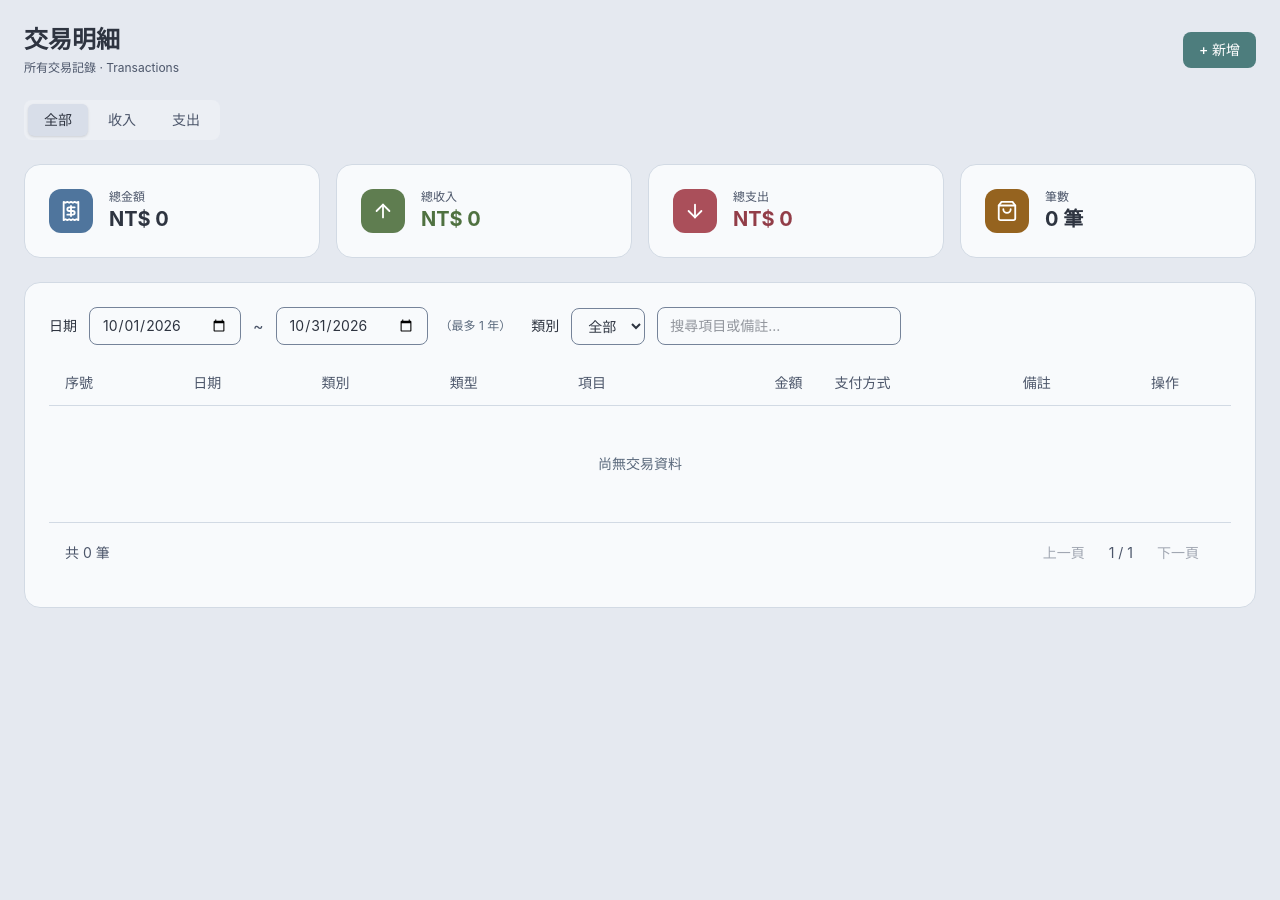
Scenario: transaction form interaction contract › clears an expense category when expense becomes income
This screenshot has width=1280, height=900.
Click the button "+ 新增": {"x": 1219, "y": 50} [1183,32,1256,68]
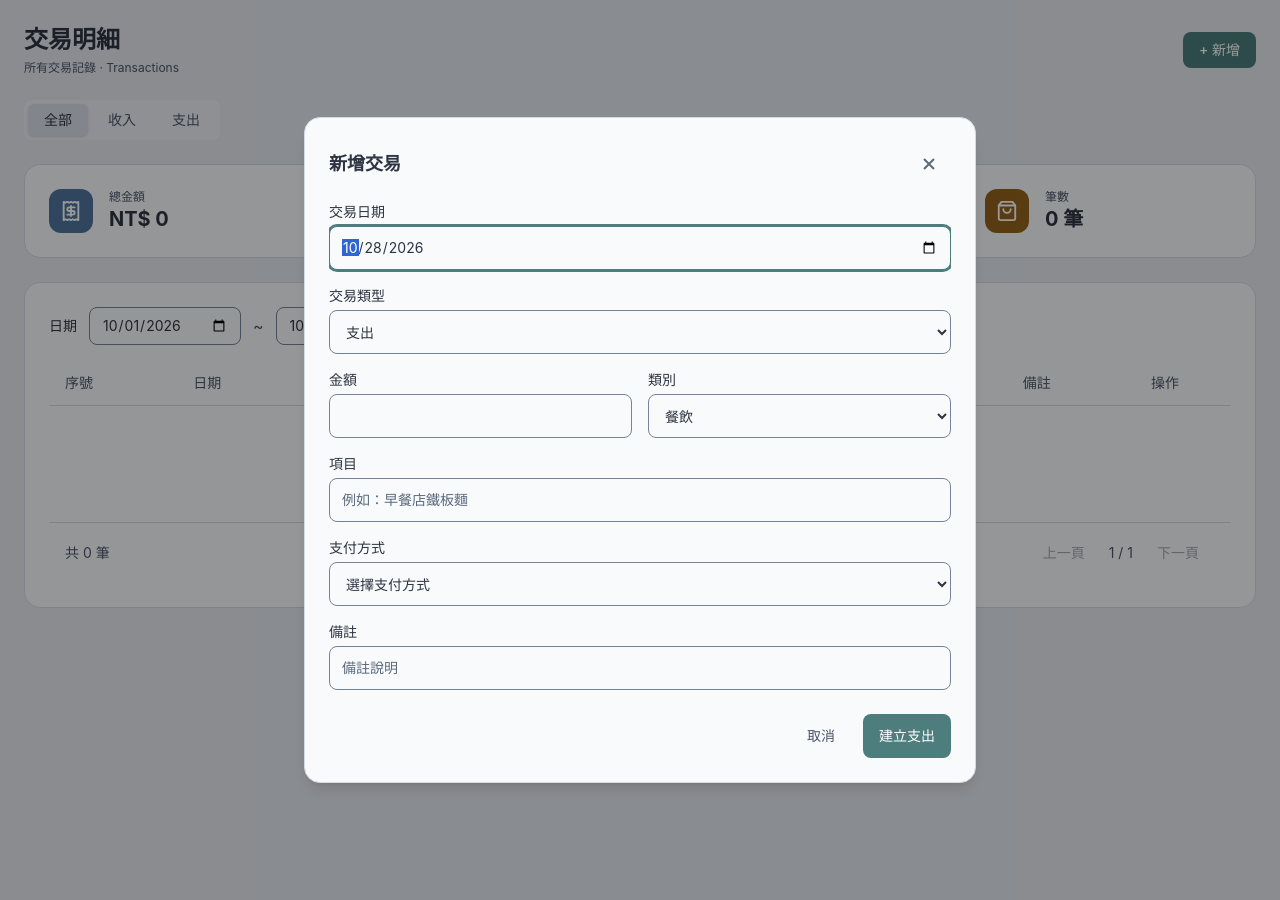
Now the dialog is shown, box [304,117,976,783]
Now the dropdown with id "transaction-type" is shown
Select "收入" in the dropdown with id "transaction-type": {"x": 640, "y": 332} [329,310,951,354]
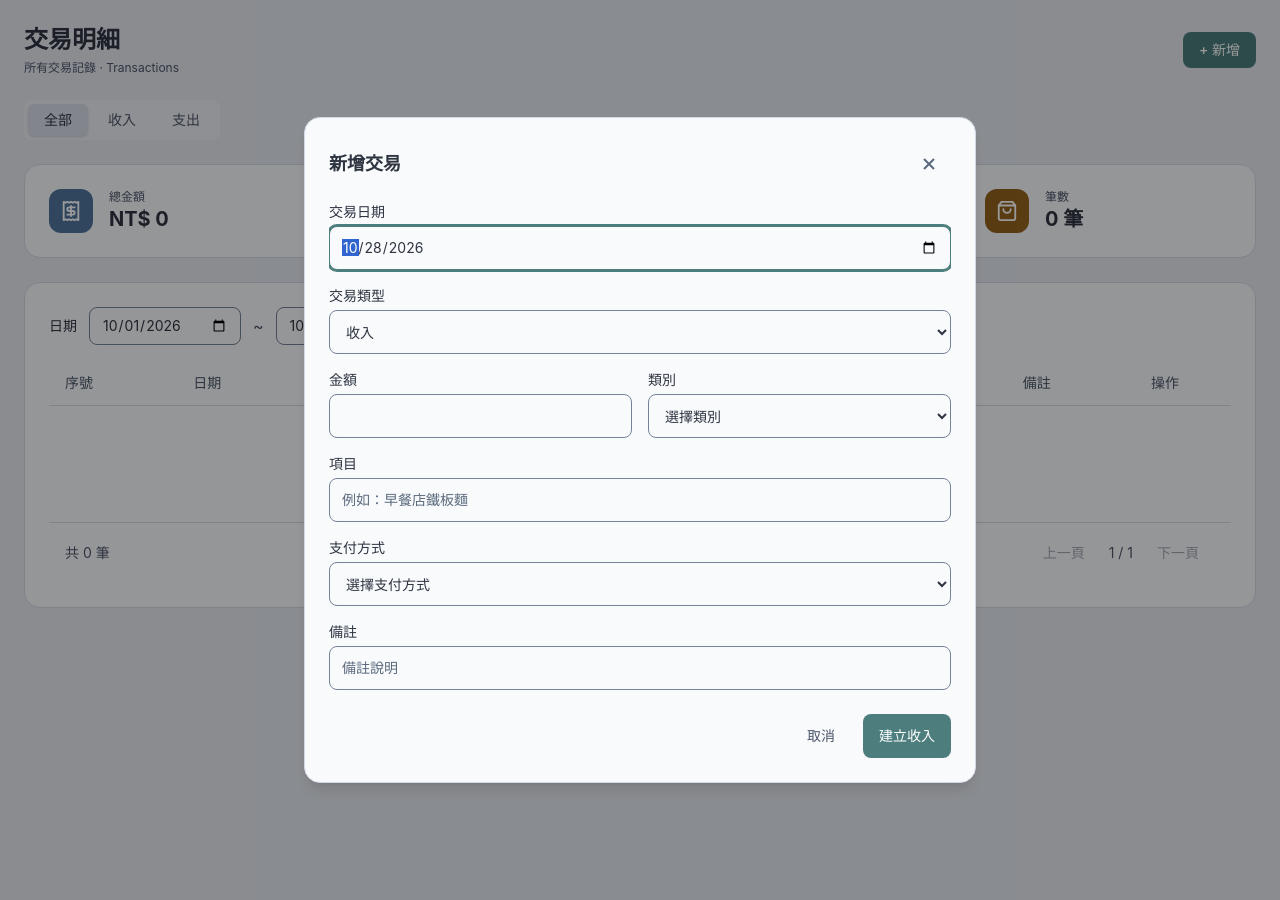
Now the dropdown with id "transaction-payment-method" shows "選擇支付方式", box [329,562,951,606]
Now the dropdown with id "transaction-category" shows "選擇類別", box [648,394,951,438]
